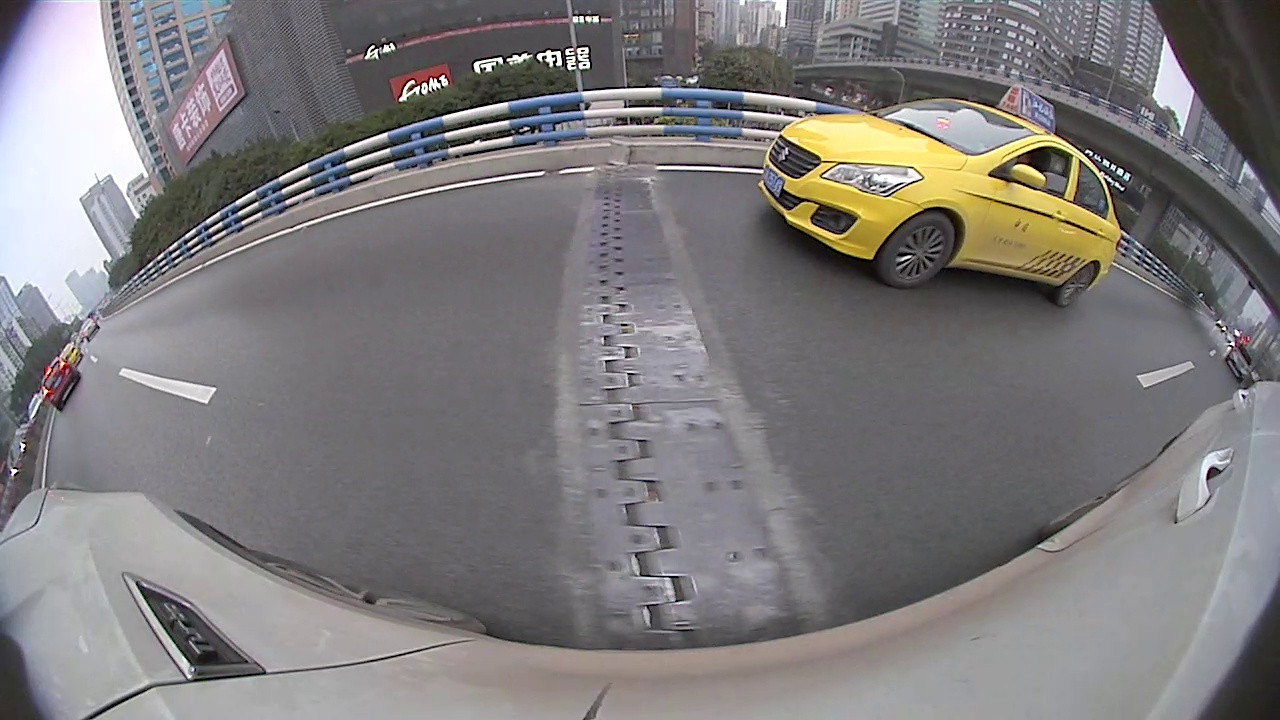car: (756, 83, 1124, 307), (41, 354, 82, 412)
front: (881, 213, 954, 288)
rear: (1054, 261, 1100, 306)
